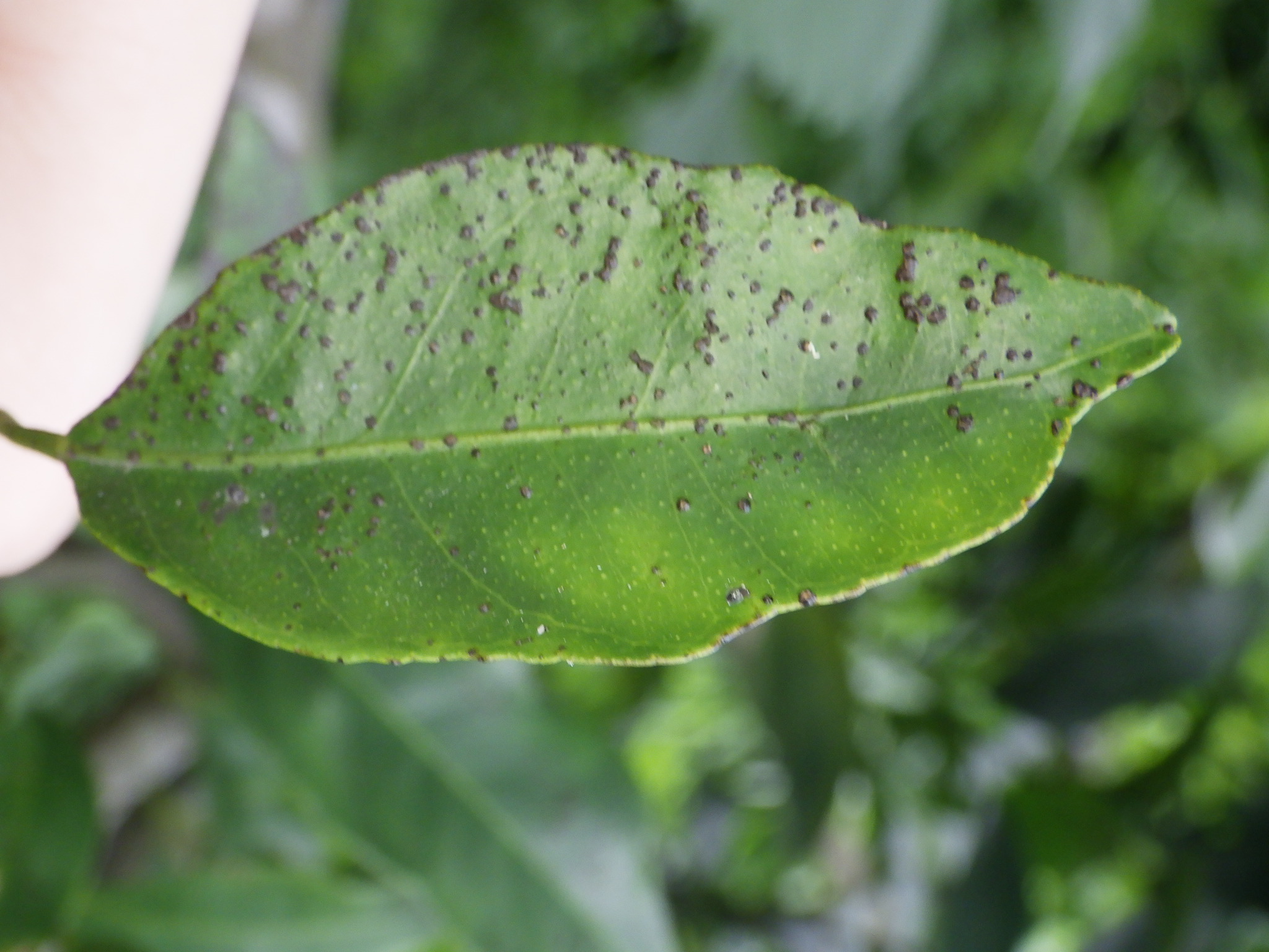Black_Spot: (67, 144, 1179, 663)
